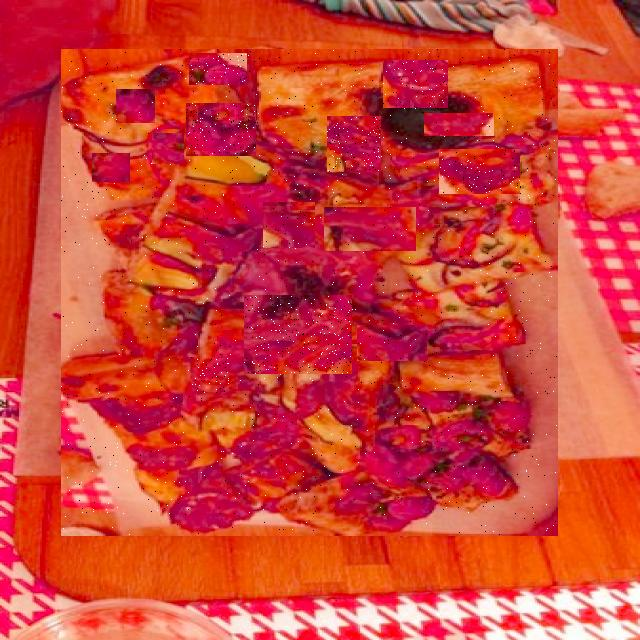Ham: (244, 296, 352, 374), (324, 208, 416, 251), (439, 150, 522, 194), (383, 62, 448, 110), (327, 117, 381, 172), (357, 326, 428, 361), (263, 203, 315, 248), (424, 114, 494, 136), (197, 355, 229, 396)
Pizza: (61, 50, 558, 535)
Tomato: (186, 104, 256, 156), (189, 54, 247, 85), (116, 90, 155, 123), (92, 154, 130, 182), (153, 134, 185, 164)
